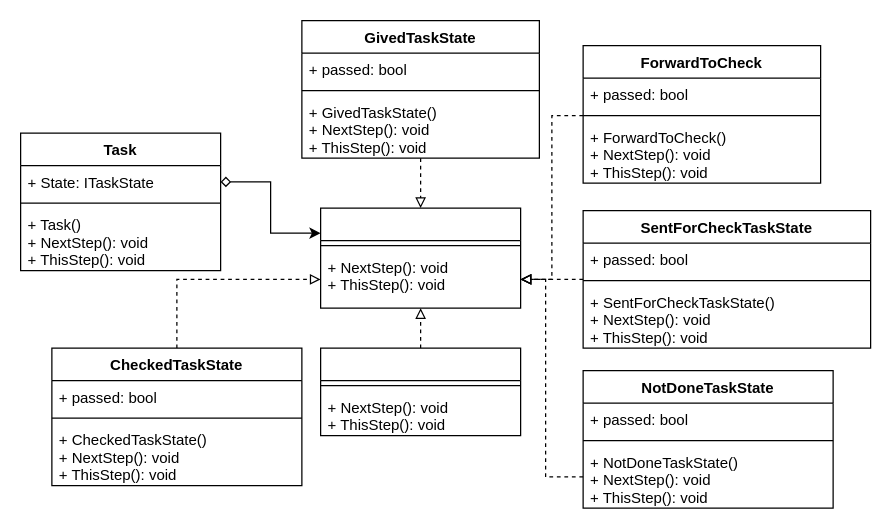
The diagram is 891 pixels wide and 529 high, and some of its shapes have lost their labels. Each missing label, with the box of its shape:
DoneTaskState: (319, 347, 521, 436)
ITaskState: (319, 207, 521, 308)
